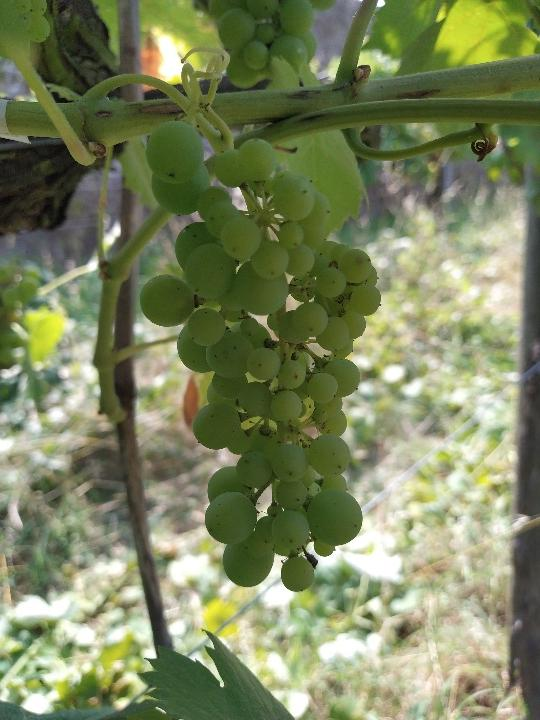grape: (139, 117, 386, 595)
